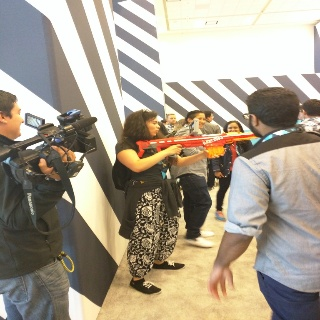rifle: (1, 105, 103, 181)
